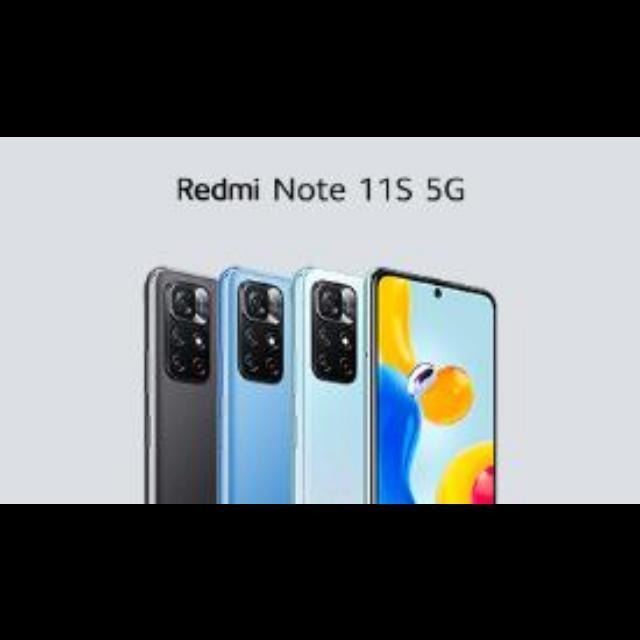phone: (338, 248, 522, 497)
